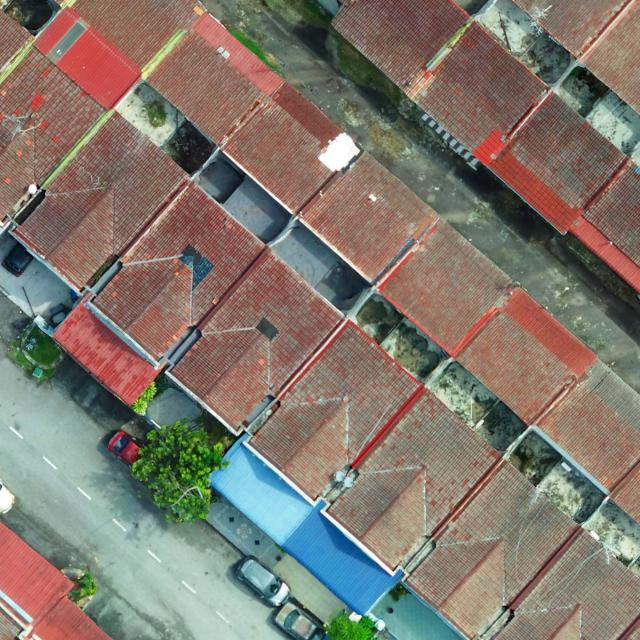Tree: (130, 420, 231, 522), (328, 613, 382, 640)
